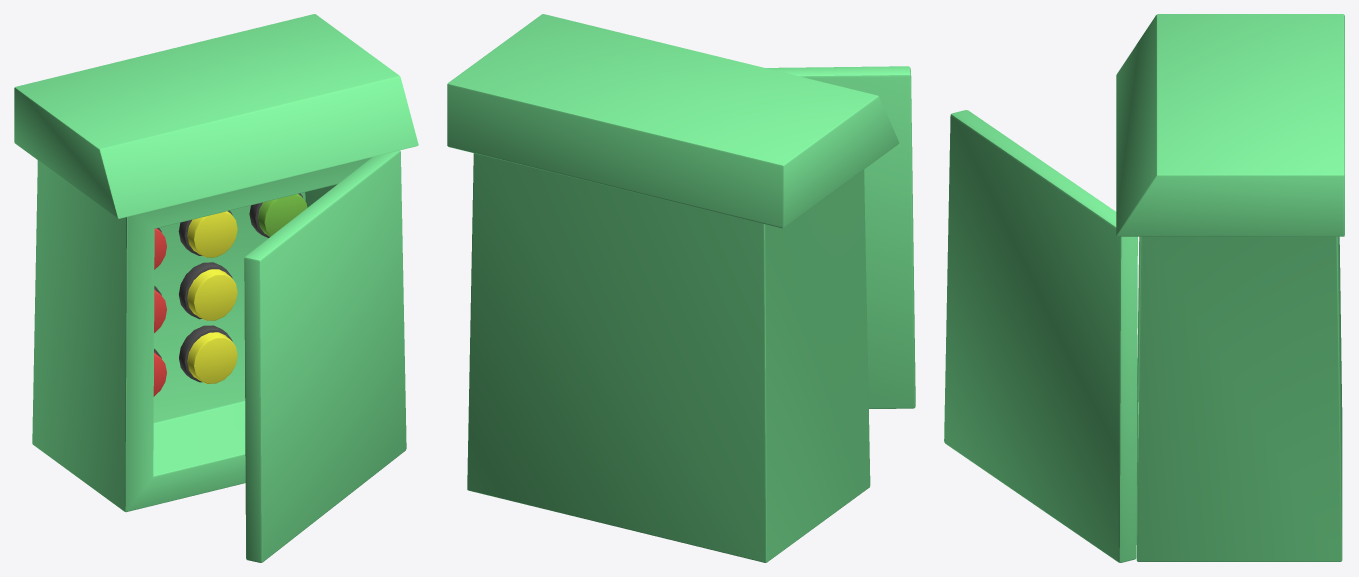
The model's file is Props_PanelElctric.fbx.
The picture shows the model from 3 angles, left to right: view 1: azimuth 30°, elevation 25°; view 2: azimuth 150°, elevation 25°; view 3: azimuth 270°, elevation 25°; orthographic projection. The views are drawn at different scales.
Visible parts, largest first — view 1: Props_PanelElctric; view 2: Props_PanelElctric; view 3: Props_PanelElctric.
Part boxes in pixels (x1,y1,x2,y2): Props_PanelElctric: [14, 14, 418, 562]; Props_PanelElctric: [447, 14, 915, 562]; Props_PanelElctric: [944, 14, 1344, 562].
Bounding box in the file's own units: 100 × 114 × 105.
